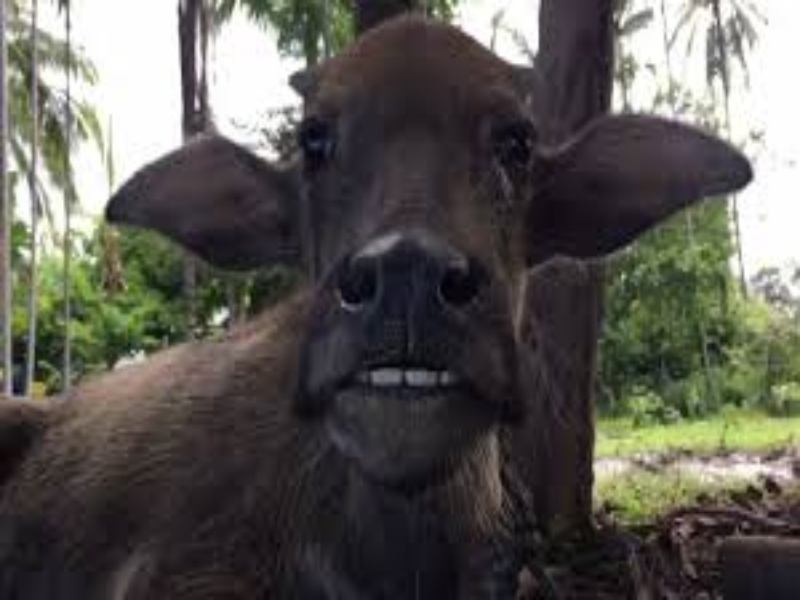buffalo: (74, 27, 755, 567)
